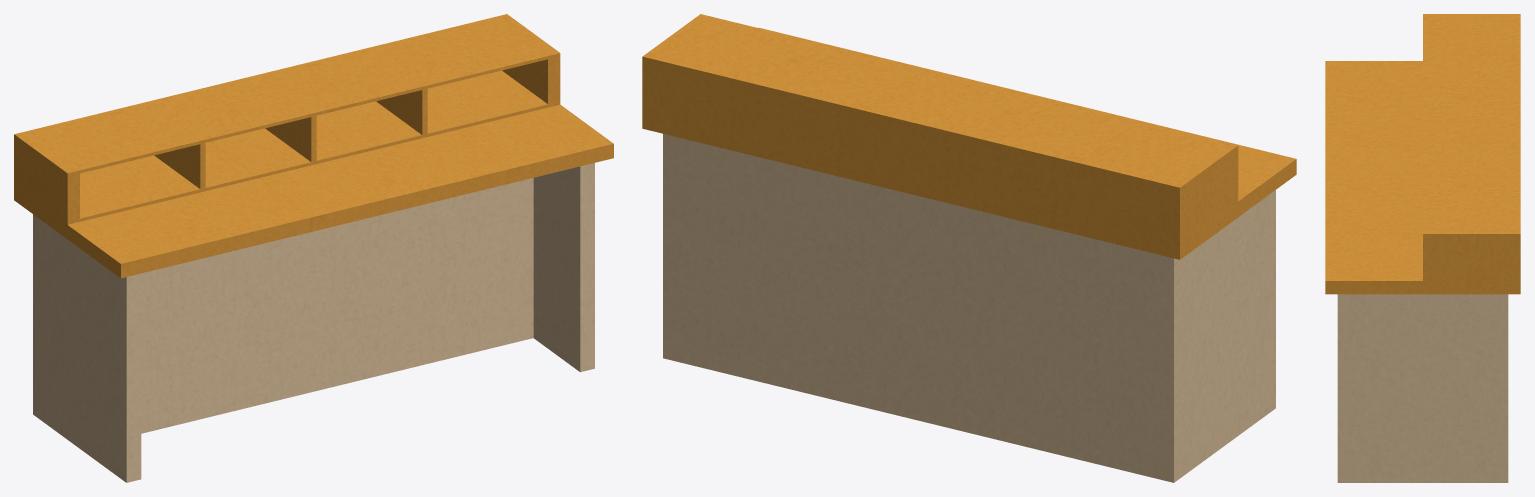
Rendered from Table3_1.fbx.
3 renders of one model, left to right at view 1: azimuth 30°, elevation 25°; view 2: azimuth 150°, elevation 25°; view 3: azimuth 270°, elevation 25°, orthographic. The views are drawn at different scales.
Parts seen in each view (by area): view 1: Table3_1; view 2: Table3_1; view 3: Table3_1.
Part boxes in pixels (x1,y1,x2,y2): Table3_1: (14,14,613,482); Table3_1: (642,14,1296,482); Table3_1: (1325,14,1520,482).
Bounding box in the file's own units: 2 × 1.08 × 0.75.
